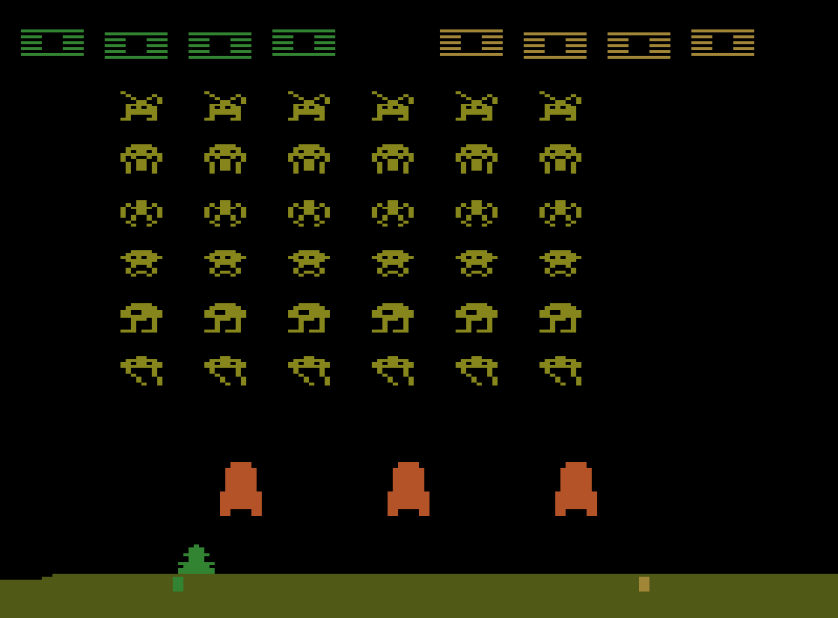invader1: (538, 88, 585, 123), (287, 88, 333, 123), (369, 87, 415, 122), (203, 89, 249, 123), (118, 89, 165, 122), (454, 88, 499, 122)
invader2: (369, 141, 417, 175), (284, 141, 332, 174), (454, 141, 500, 175), (203, 143, 249, 175), (538, 141, 584, 173), (118, 143, 164, 174)
invader3: (201, 197, 249, 229), (370, 198, 418, 229), (118, 198, 165, 229), (287, 197, 332, 228), (539, 198, 584, 229), (454, 198, 501, 227)
invader4: (118, 246, 164, 279), (202, 247, 249, 279), (537, 249, 584, 279), (371, 249, 416, 280), (287, 249, 332, 279), (456, 249, 500, 279)
invader5: (203, 299, 248, 335), (286, 300, 332, 335), (455, 300, 500, 335), (370, 300, 416, 334), (538, 300, 584, 334), (118, 302, 163, 335)
invader6: (118, 353, 165, 388), (203, 354, 249, 389), (287, 354, 332, 389), (370, 354, 415, 389), (539, 354, 584, 388), (455, 354, 500, 387)
player: (177, 540, 217, 575)
